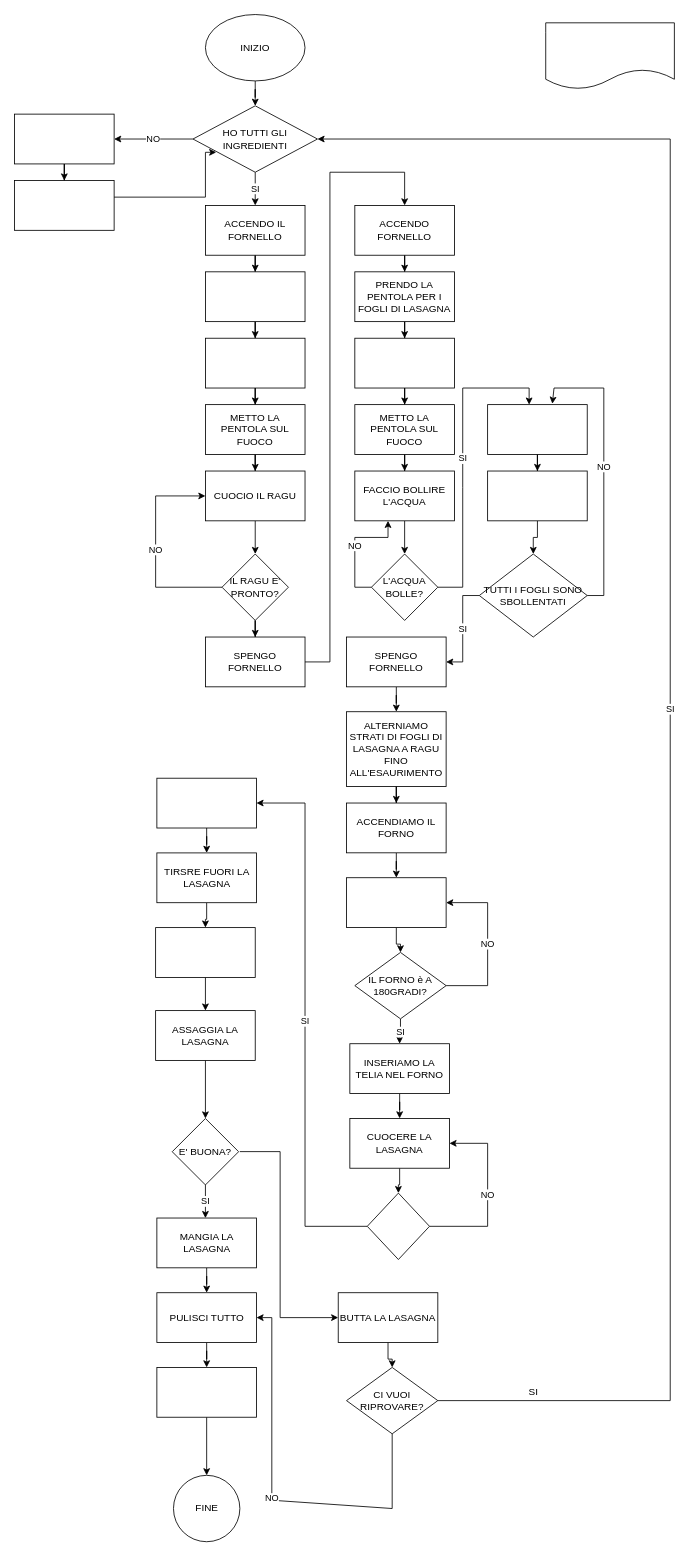
Some shapes in this 691 by 1556 pixel diagram are drawn without their labels. The shapes that lost their labels are listed below. From the top down, each one's centre as x and y in pixels, then its label:
point (609, 55): LISTA INGREDIENTI FOGLI DI LASAGNA,RAGU,VINO...
point (64, 138): VADO AL SUPERMERCATO
point (64, 205): COMPRO GLI INGREDIENTI
point (255, 296): PRENDO LA PENTOLA PER IL RAGU
point (255, 362): INSERISCO GLI INGREDIENTI ALL'INTERNO DELLA PENTOLA
point (404, 362): INSERISCO ACQUA E SALE
point (537, 429): METTIAMO UN FOGLIO DI LASAGNA NELLA PENTOLA
point (537, 495): SBOLLENTIAMO
point (206, 802): SPEGNERE IL FORNO
point (396, 902): SCALDARE IL FORNO A 180 GRADI
point (205, 952): IMPIATTA LA LASAGNA
point (398, 1226): E' PRONTA?
point (206, 1392): RIMETTI A POSTO
